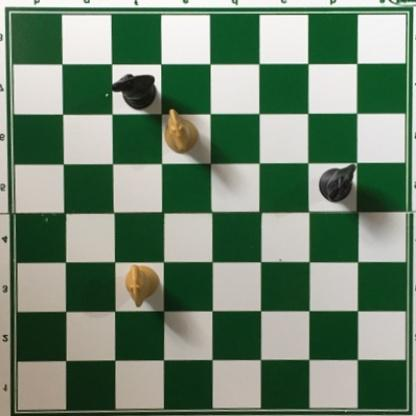black-knight: (110, 70, 159, 109), (317, 163, 358, 203)
white-knight: (159, 108, 200, 154), (124, 264, 159, 309)
